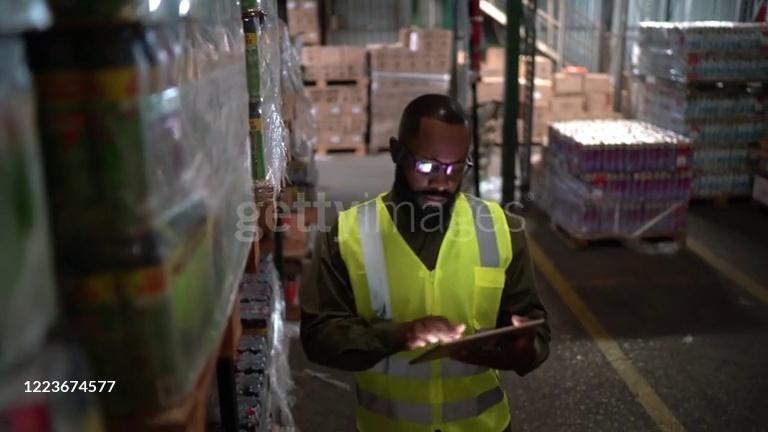person: (299, 93, 553, 432)
